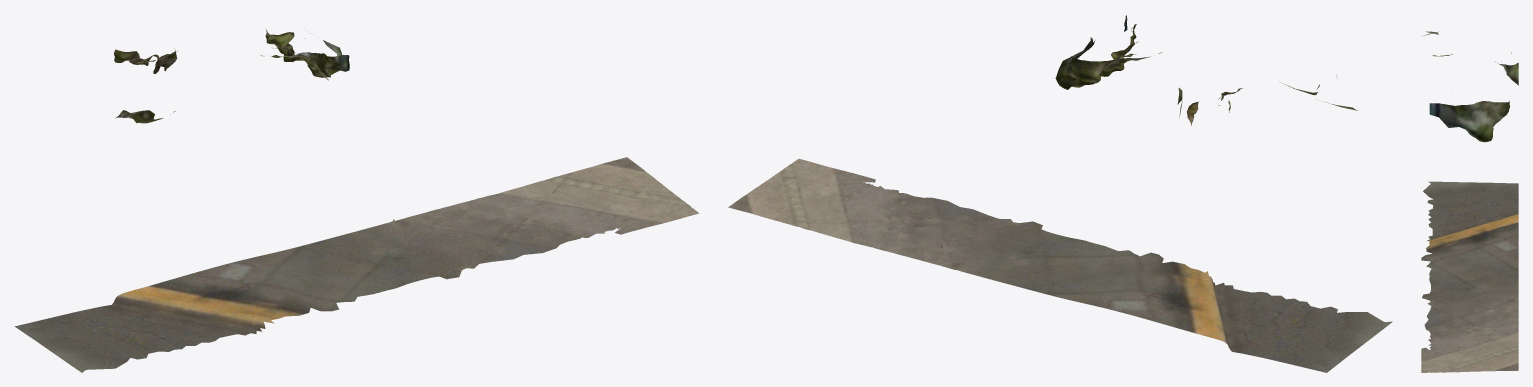
The picture shows the model from 3 angles, left to right: view 1: azimuth 30°, elevation 25°; view 2: azimuth 150°, elevation 25°; view 3: azimuth 270°, elevation 25°; orthographic projection. The views are drawn at different scales.
Size of the model in its own units: 11.15 by 4.43 by 2.29.
1 material, 1 textured.
